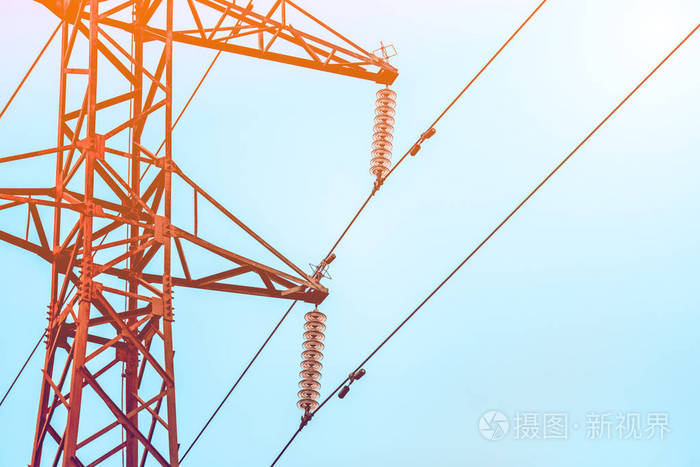insulator: (296, 310, 325, 412), (370, 87, 396, 176)
